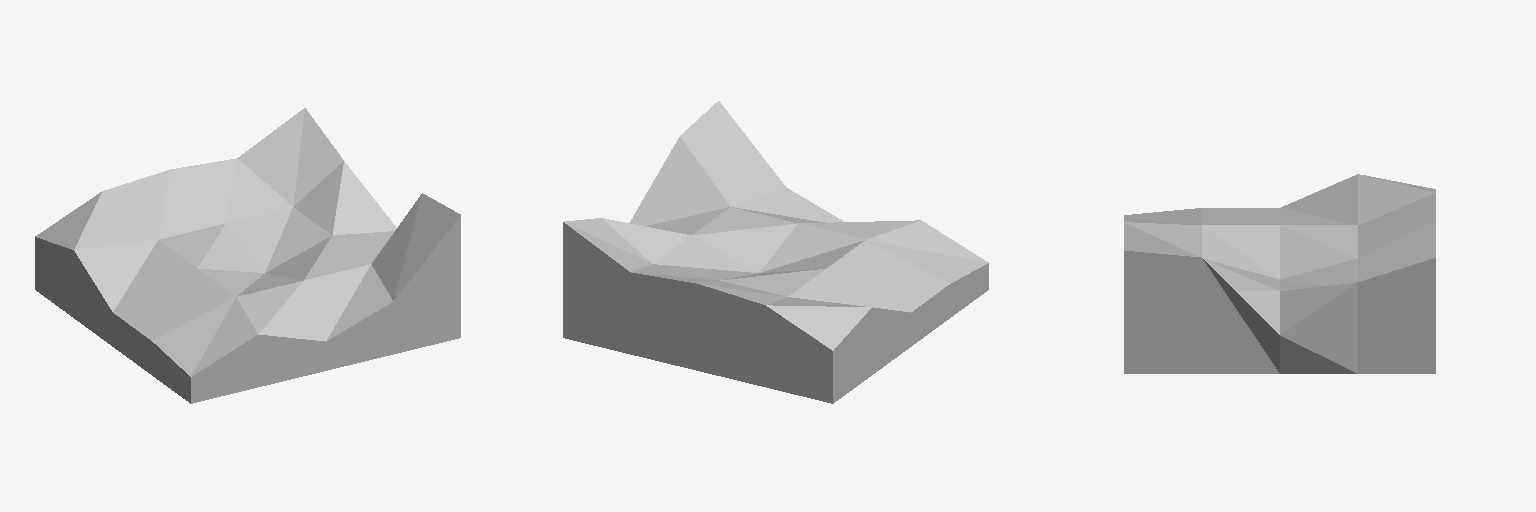
The model's file is bare-cube.obj.
3 renders of one model, left to right at view 1: azimuth 30°, elevation 25°; view 2: azimuth 150°, elevation 25°; view 3: azimuth 270°, elevation 25°, orthographic.
Parts seen in each view (by area): view 1: Cube; view 2: Cube; view 3: Cube.
Part boxes in pixels (bbox=[...]): Cube: bbox=[35, 108, 460, 403]; Cube: bbox=[563, 101, 988, 403]; Cube: bbox=[1124, 174, 1435, 373].
Bounding box in the file's own units: 1.06 × 0.4771 × 1.